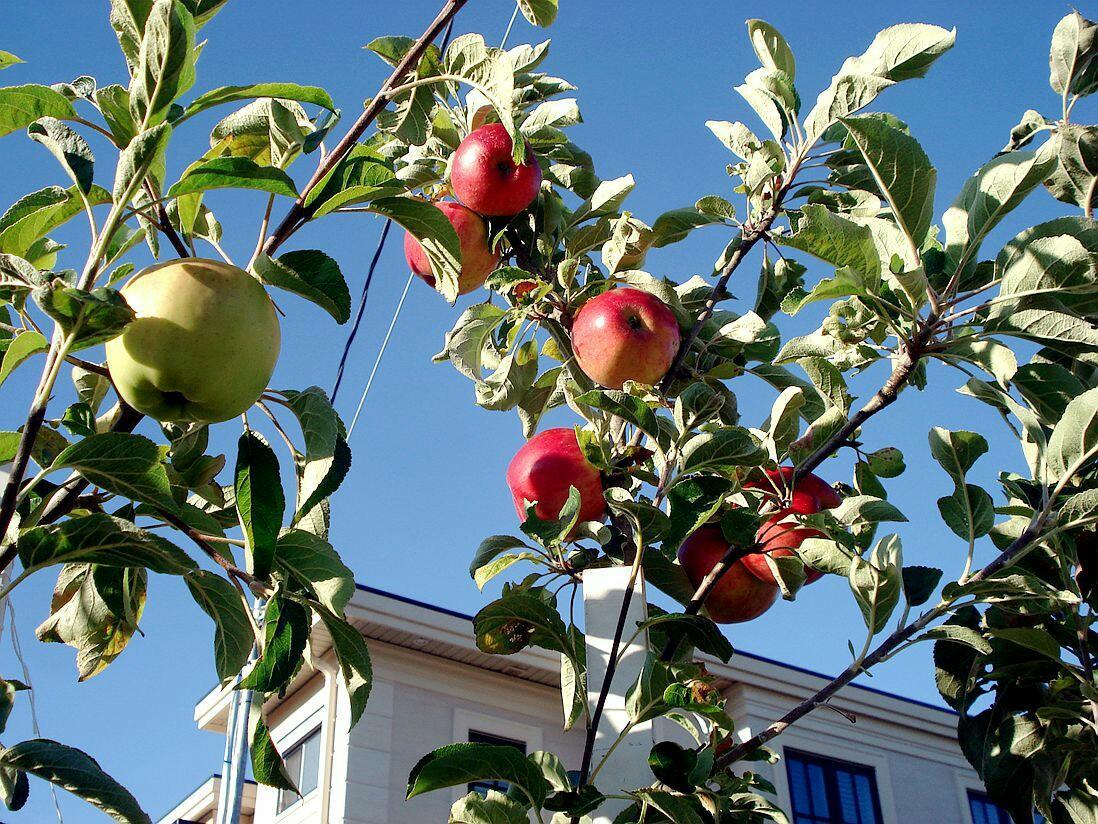apple: (112, 260, 284, 436), (509, 425, 614, 547), (570, 286, 681, 395), (681, 528, 795, 622), (445, 122, 543, 216)
